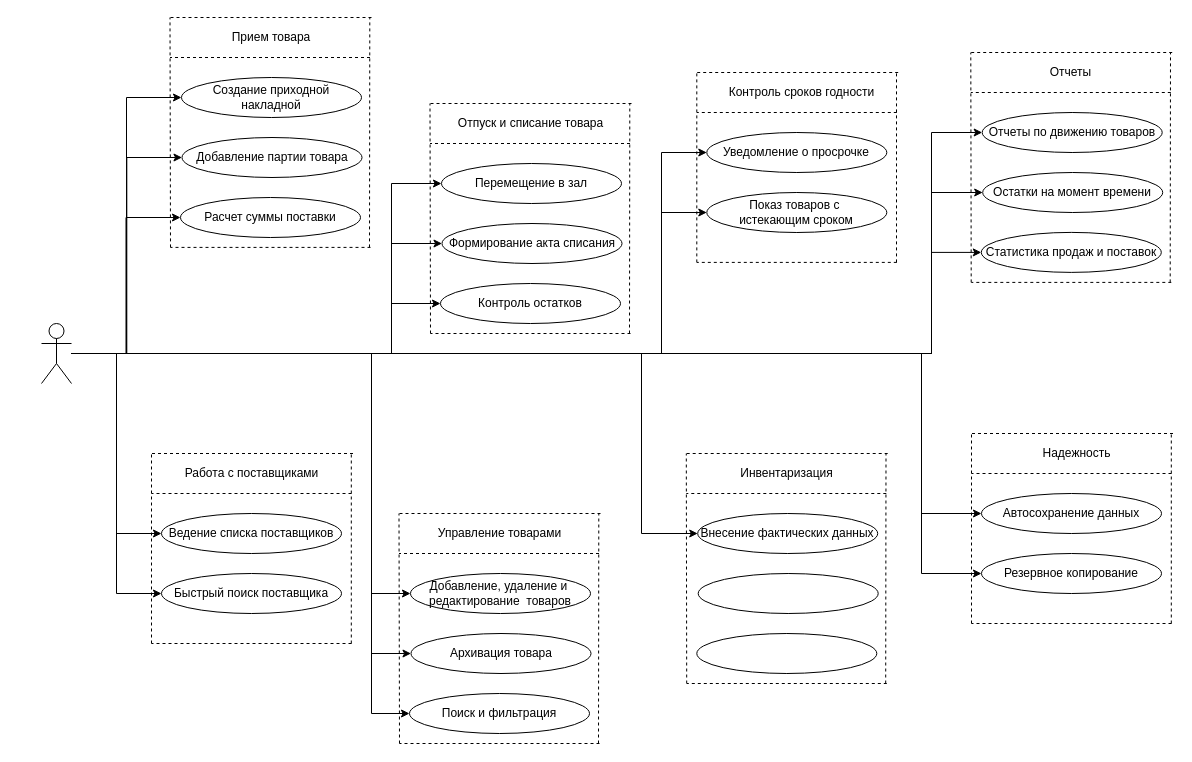
Image size: 1192x762. Some labels were removed from this diagram. Here are the shapes that lost their labels. From the top down, the centre of each, then its label:
At pixel 56 353: "Пользователь".
At pixel 787 593: "Сравнение с системой".
At pixel 786 653: "Создание ведомости для пересчета".
